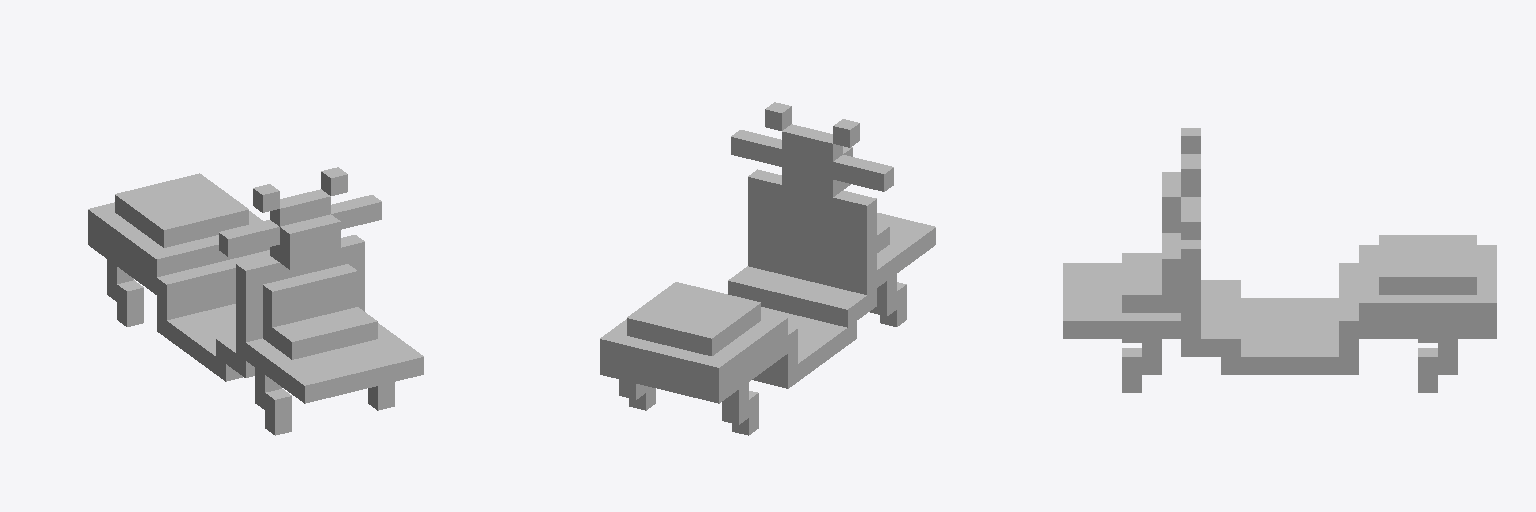
Rendered from moto3.obj.
The picture shows the model from 3 angles: view 1: azimuth 30°, elevation 25°; view 2: azimuth 150°, elevation 25°; view 3: azimuth 270°, elevation 25°; orthographic projection.
Visible parts, largest first — view 1: moto3; view 2: moto3; view 3: moto3.
Boxes of the visible parts, box(x1,y1,x2,y2) form: moto3: box(88, 167, 423, 435); moto3: box(600, 102, 935, 435); moto3: box(1063, 128, 1496, 392).
Bounding box in the file's own units: 0.9 × 1.2 × 2.2.